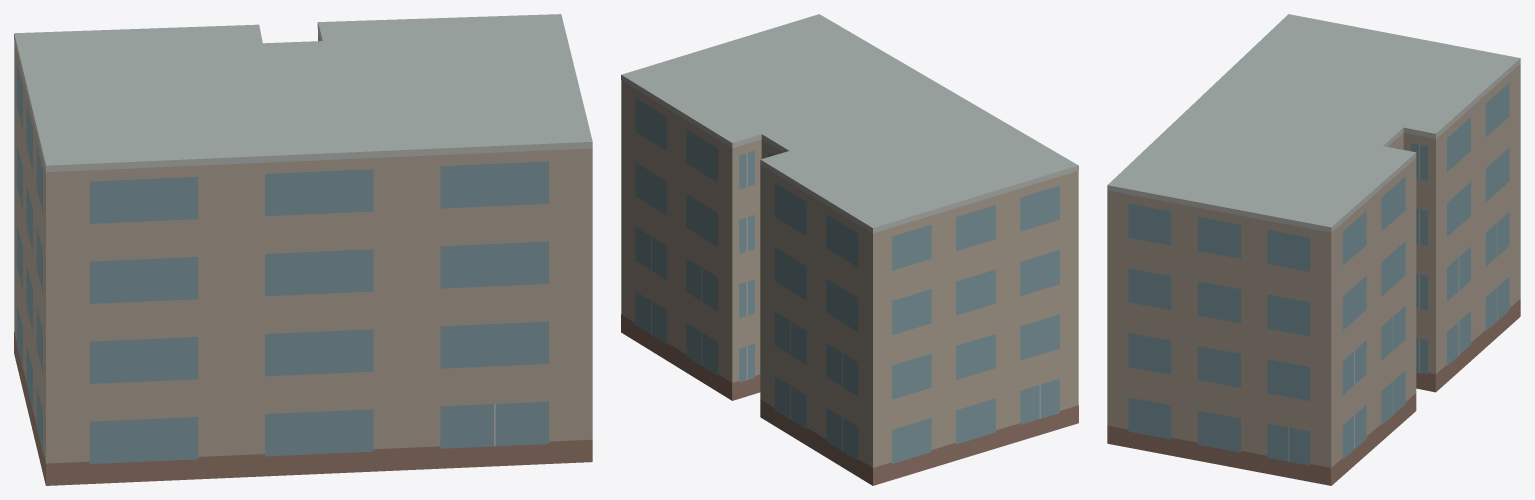
The model's file is survey-upis-32658810.glb.
3 views of the same model, side by side, from view 1: azimuth 30°, elevation 25°; view 2: azimuth 150°, elevation 25°; view 3: azimuth 270°, elevation 25° (orthographic). The views are drawn at different scales.
Visible parts, largest first — view 1: survey-upis-32658810.tmp; view 2: survey-upis-32658810.tmp; view 3: survey-upis-32658810.tmp.
Part boxes in pixels (x1,y1,x2,y2): survey-upis-32658810.tmp: (14,14,592,485); survey-upis-32658810.tmp: (621,14,1078,485); survey-upis-32658810.tmp: (1107,14,1520,485).
Bounding box in the file's own units: 21.09 × 11.9 × 17.25.
